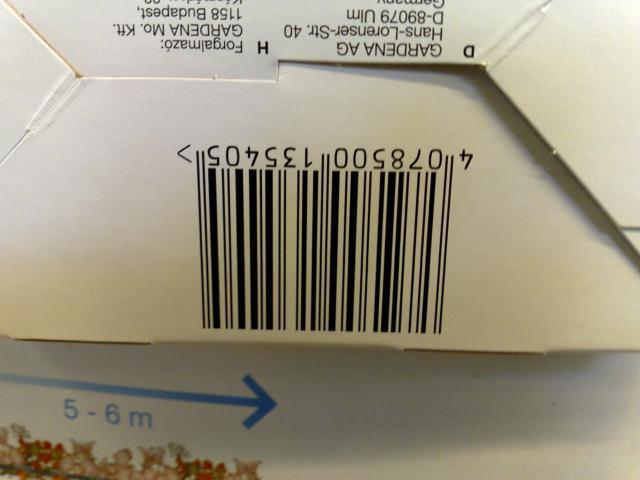Barcode: (165, 134, 494, 340)
